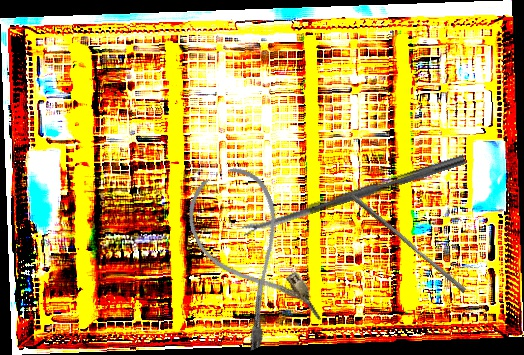Cannula: (175, 159, 325, 353)
Pusher: (346, 193, 470, 294)
Surgical Spoon: (241, 153, 466, 236)
